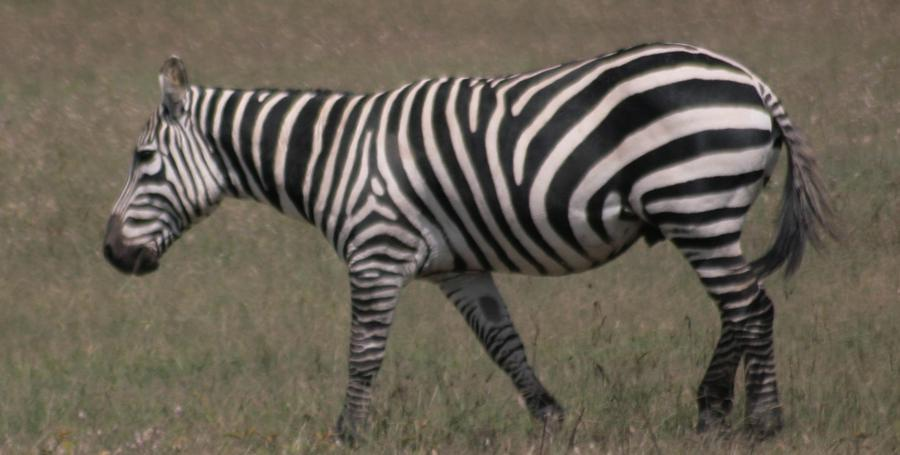zebra_plains: (279, 53, 787, 287)
